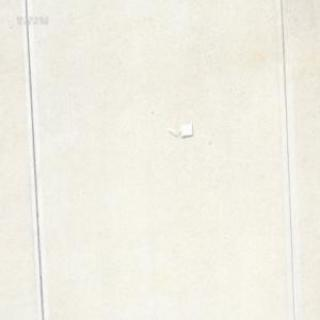LuggageTagtrack_idkeyframe: (167, 121, 192, 139)
